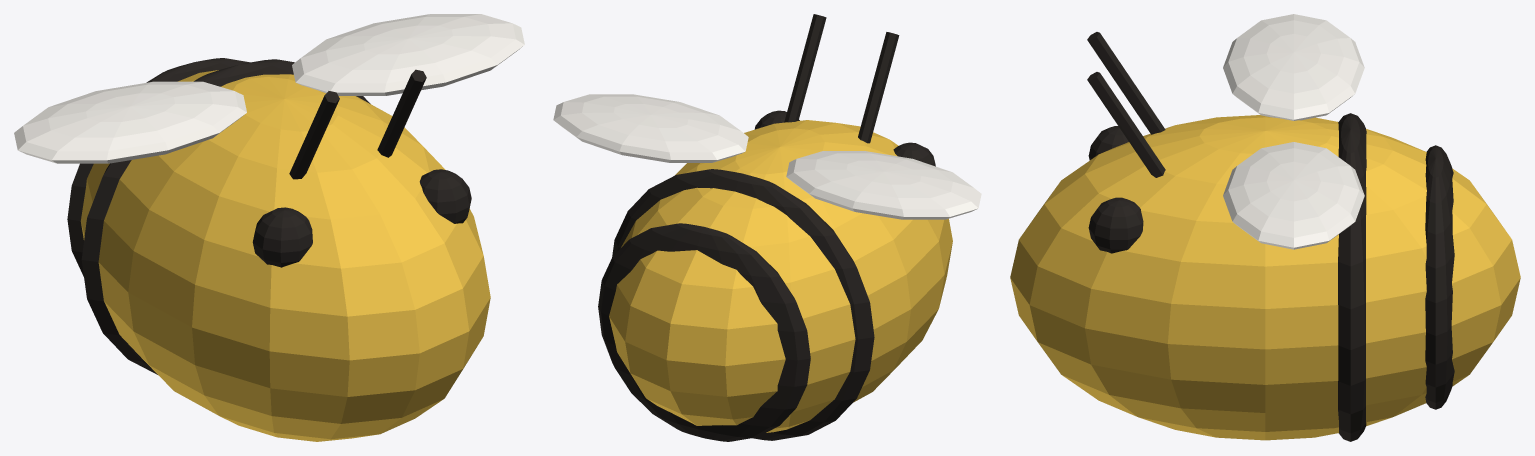
The model's file is bee.glb.
3 renders of one model, left to right at view 1: azimuth 30°, elevation 25°; view 2: azimuth 150°, elevation 25°; view 3: azimuth 270°, elevation 25°, orthographic. The views are drawn at different scales.
Parts seen in each view (by area): view 1: Bee, WingR, WingL; view 2: Bee, WingR, WingL; view 3: Bee, WingL, WingR.
Part boxes in pixels (box(x1,y1,x2,y2)): Bee: box(67, 58, 490, 441); WingR: box(14, 81, 246, 163); WingL: box(292, 14, 524, 95); Bee: box(598, 14, 952, 441); WingR: box(786, 151, 981, 219); WingL: box(553, 94, 748, 162); Bee: box(1010, 32, 1520, 441); WingL: box(1223, 142, 1364, 249); WingR: box(1223, 14, 1364, 120).
Size of the model in its own units: 0.58 by 0.435 by 0.54.
